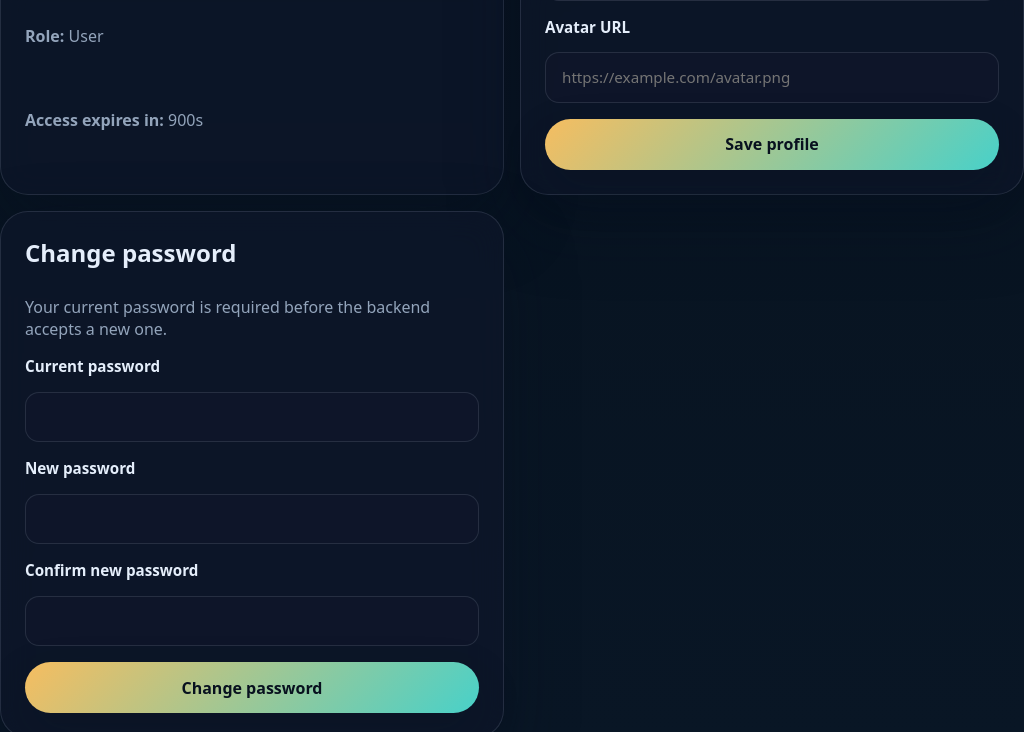
it: Profile page › changes password through the auth context
(page scrolled)
Type "password123" into the password field labelled "Current password". click: (252, 417)
box: [25,392,479,442]
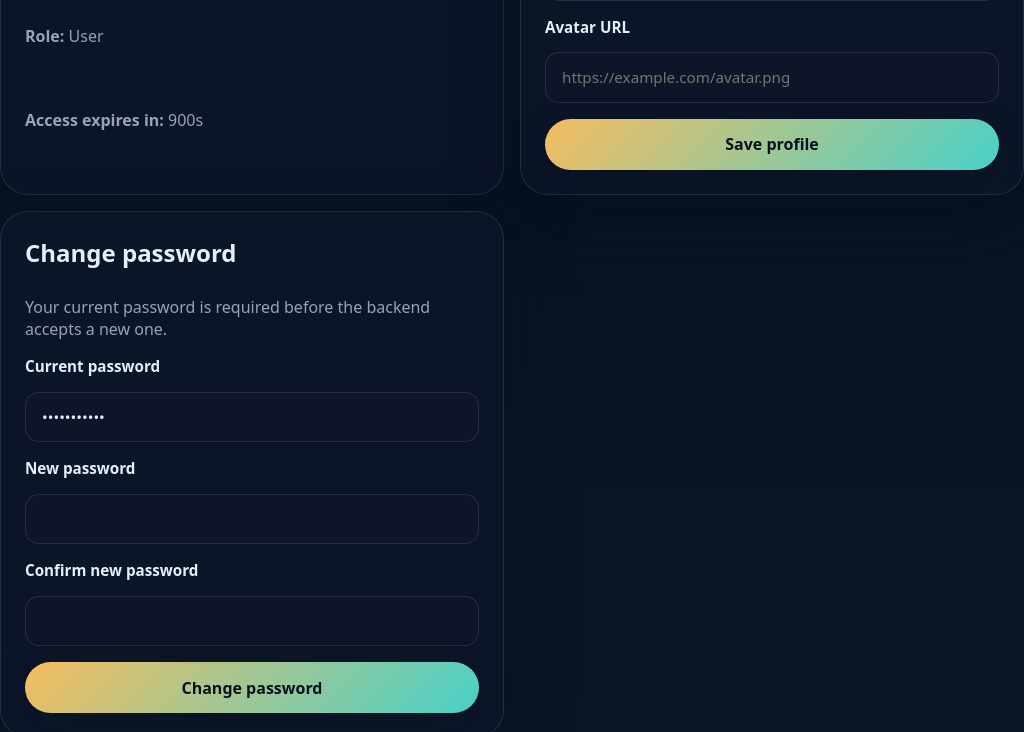
Type "newPassword123" into the password field labelled "New password". click: (252, 519)
box: [25,494,479,544]
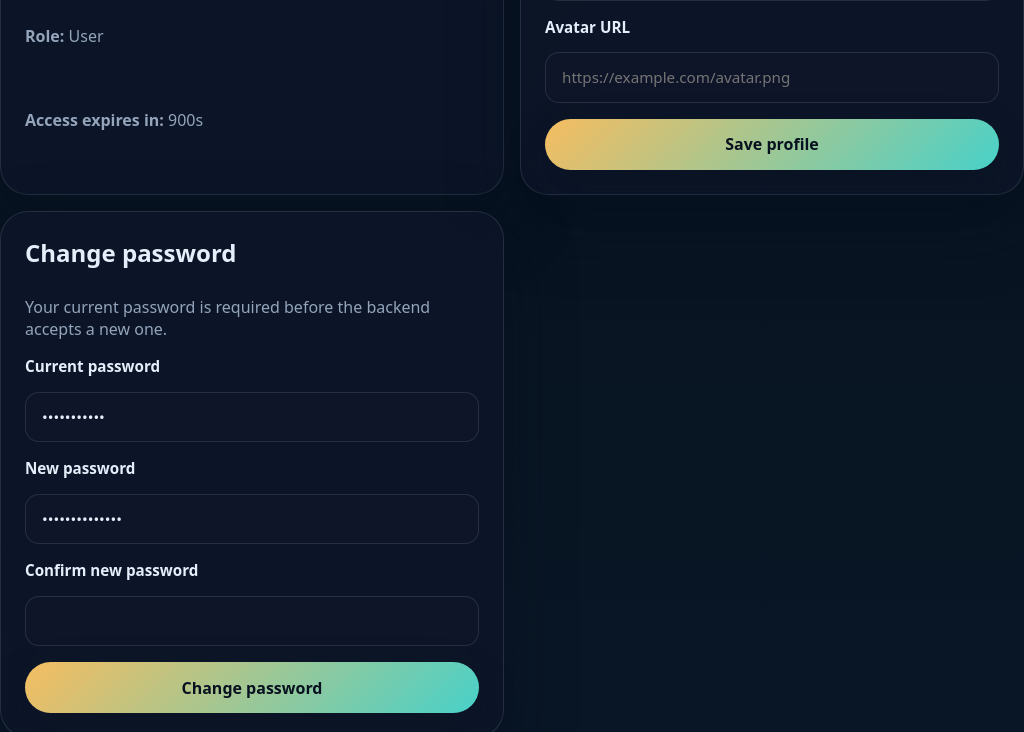
Type "newPassword123" into the password field labelled "Confirm new password". click: (252, 621)
box: [25,596,479,646]
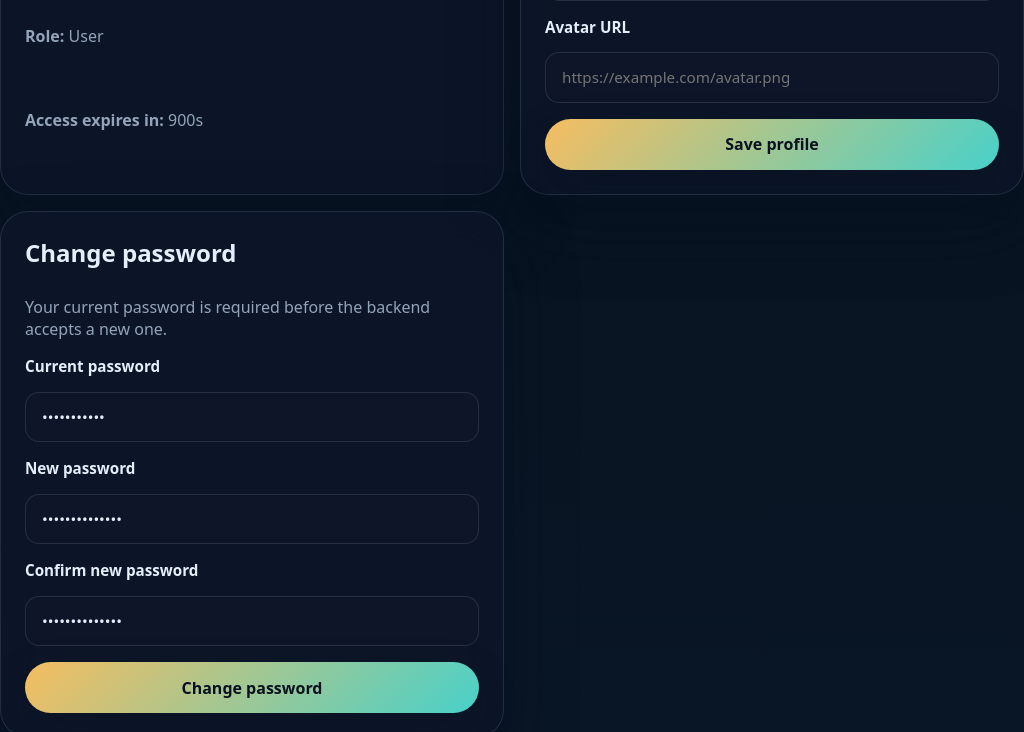
Click the button "Change password". click: (252, 688)
box: [25,662,479,713]
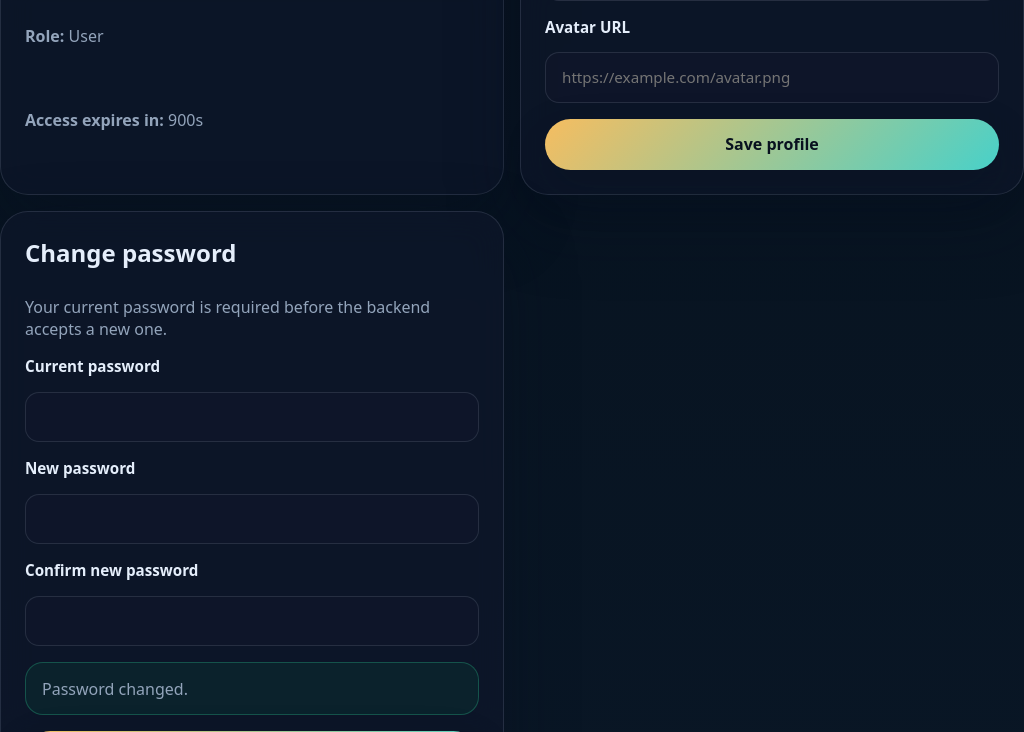
Now the text "Password changed." is shown, box [25,662,479,715]
